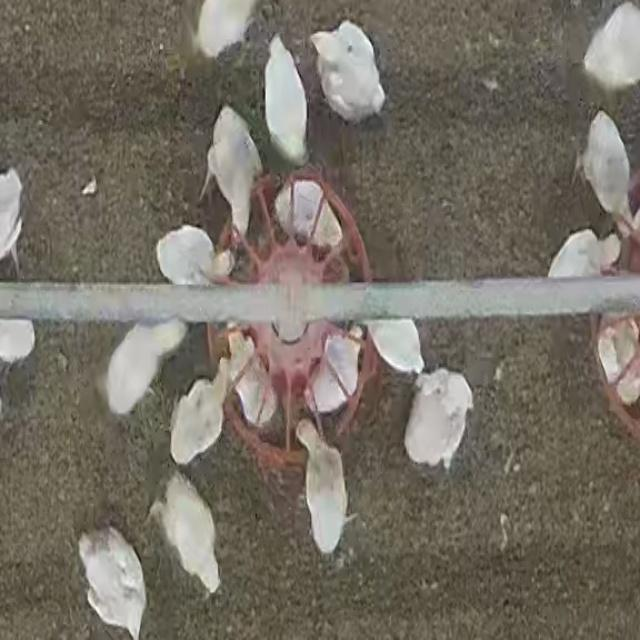chicken: (310, 18, 386, 170), (152, 471, 224, 597), (252, 35, 320, 166), (170, 348, 242, 465), (202, 106, 262, 241), (295, 418, 351, 556), (78, 526, 147, 638), (106, 316, 180, 419), (407, 366, 476, 476), (583, 117, 633, 232), (275, 178, 344, 254), (226, 328, 276, 430), (156, 229, 237, 288), (308, 331, 360, 415), (548, 228, 615, 281), (368, 318, 424, 374)
